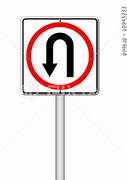back: (25, 21, 95, 89)
